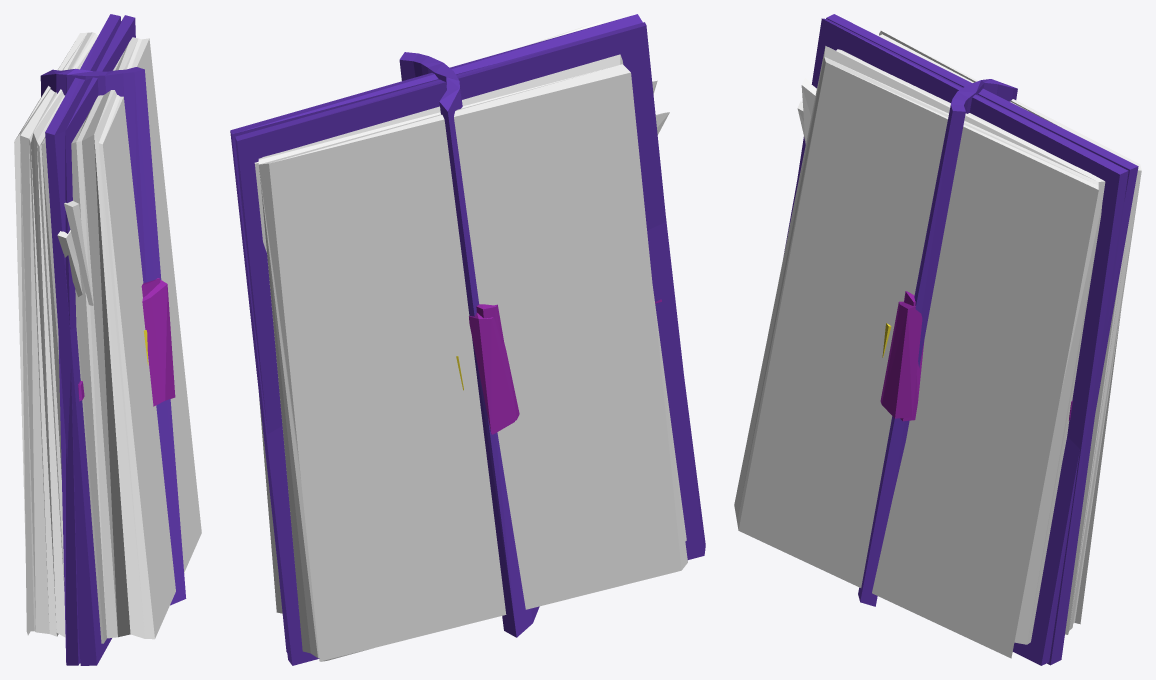
Rendered from Spellbook.glb.
3 views of the same model, side by side, from view 1: azimuth 30°, elevation 25°; view 2: azimuth 150°, elevation 25°; view 3: azimuth 270°, elevation 25° (orthographic). The views are drawn at different scales.
Parts seen in each view (by area): view 1: group1557057382, group672885780, group951786471, group1413419146, group454791396, group844920729, group2015110679; view 2: group1557057382, group672885780, group1413419146, group951786471, group454791396; view 3: group1557057382, group1413419146, group672885780, group951786471, group454791396.
Boxes of the visible parts, x1,y1,x2,y2 form: group1557057382: [14, 32, 201, 643]; group672885780: [45, 14, 120, 665]; group951786471: [40, 67, 186, 605]; group1413419146: [54, 15, 135, 665]; group454791396: [142, 280, 175, 406]; group844920729: [64, 201, 93, 305]; group2015110679: [57, 230, 82, 296]; group1557057382: [254, 21, 687, 661]; group672885780: [235, 22, 666, 652]; group1413419146: [230, 14, 705, 665]; group951786471: [399, 52, 539, 637]; group454791396: [469, 312, 519, 433]; group1557057382: [734, 31, 1141, 658]; group1413419146: [794, 18, 1128, 665]; group672885780: [784, 14, 1138, 665]; group951786471: [858, 79, 1017, 606]; group454791396: [880, 301, 922, 418].
Bounding box in the file's own units: 28641 × 54966 × 37004.
